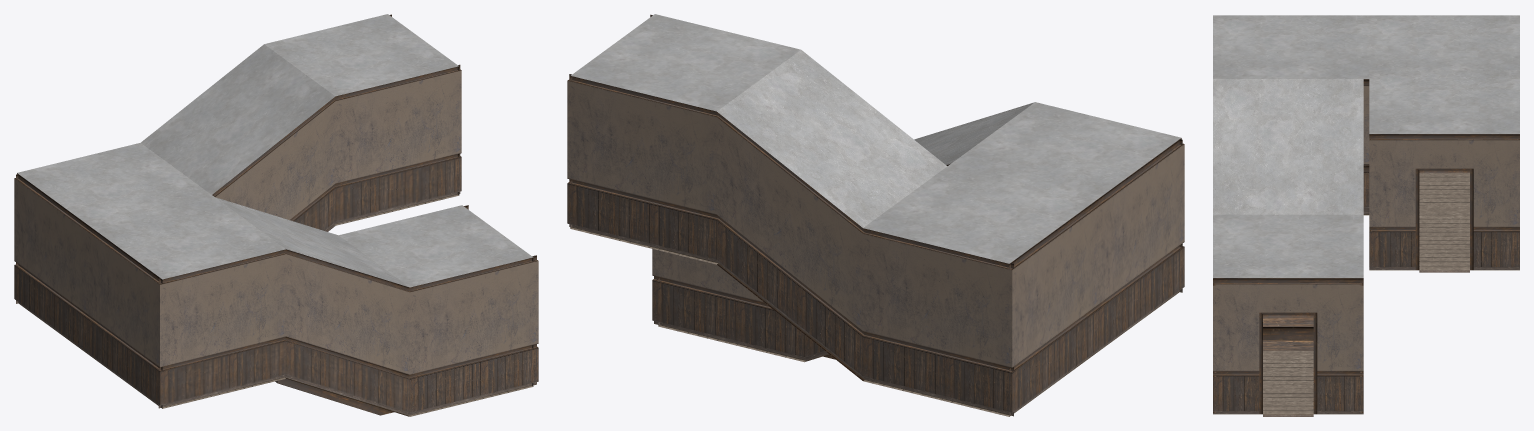
Rendered from StairsRoom.FBX.
3 views of the same model, side by side, from view 1: azimuth 30°, elevation 25°; view 2: azimuth 150°, elevation 25°; view 3: azimuth 270°, elevation 25° (orthographic). The views are drawn at different scales.
Parts seen in each view (by area): view 1: Cell003, Wall005, Wall004, Wall006, Wall002, Wall011, Wall008, Floor006; view 2: Cell003, Wall005, Wall001, Wall007, Wall010, Wall003, Floor006; view 3: Cell003, Wall_Doorway, Wall_Doorway003, Floor006, Wall008.
Part boxes in pixels (x1,y1,x2,y2): Cell003: [17, 14, 533, 287]; Wall005: [14, 173, 162, 408]; Wall004: [408, 255, 538, 415]; Wall006: [158, 250, 286, 408]; Wall002: [334, 64, 461, 224]; Wall011: [284, 249, 409, 415]; Wall008: [212, 98, 335, 231]; Floor006: [162, 194, 533, 416]; Cell003: [570, 14, 1181, 263]; Wall005: [1009, 138, 1184, 416]; Wall001: [567, 74, 718, 263]; Wall007: [863, 228, 1013, 416]; Wall010: [716, 113, 864, 379]; Wall003: [652, 249, 806, 360]; Floor006: [571, 227, 1020, 416]; Cell003: [1213, 15, 1519, 277]; Wall_Doorway: [1369, 134, 1519, 272]; Wall_Doorway003: [1213, 278, 1363, 416]; Floor006: [1263, 173, 1469, 414]; Wall008: [1363, 79, 1369, 215].
Size of the model in its own units: 1.55 by 1.05 by 1.04.
